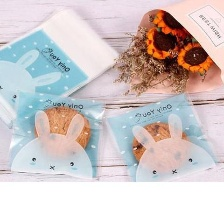snack: (98, 87, 224, 181), (0, 84, 111, 181)
